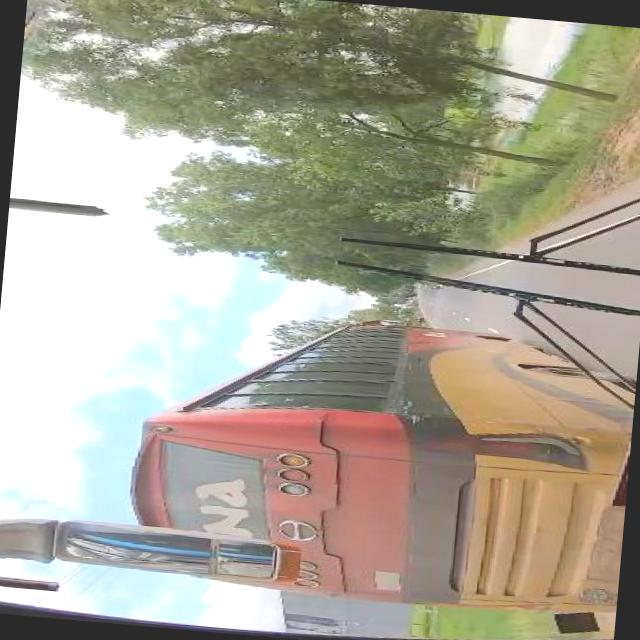bus: (114, 297, 630, 622)
motorcycle: (422, 285, 438, 290)
